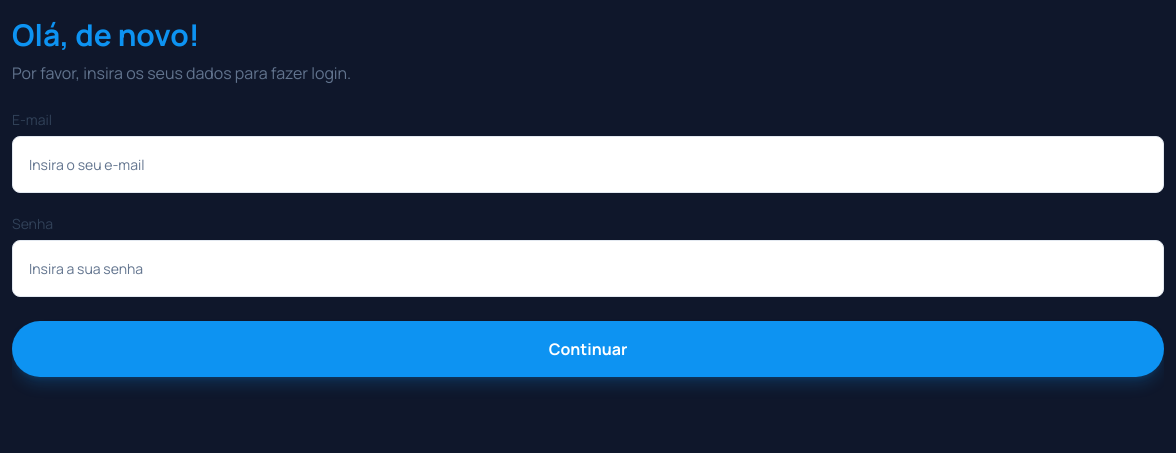
LoginForm › deve exibir erros de validação aos submeter vazio
Click the button "Continuar".
click(588, 349)  # box [12,321,1164,377]
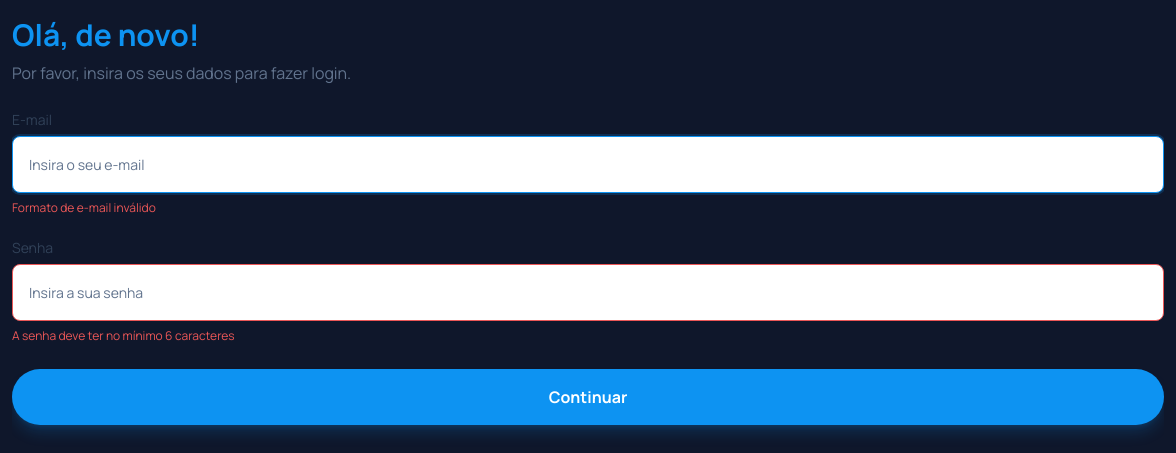
Result: the text "Formato de e-mail inválido" is shown at [12,199,156,216]
Result: the text "A senha deve ter no mínimo 6 caracteres" is shown at [12,327,235,344]
